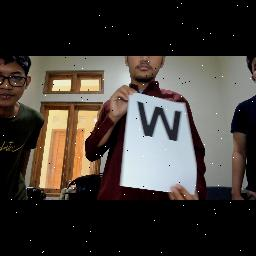w: (134, 100, 186, 144)
